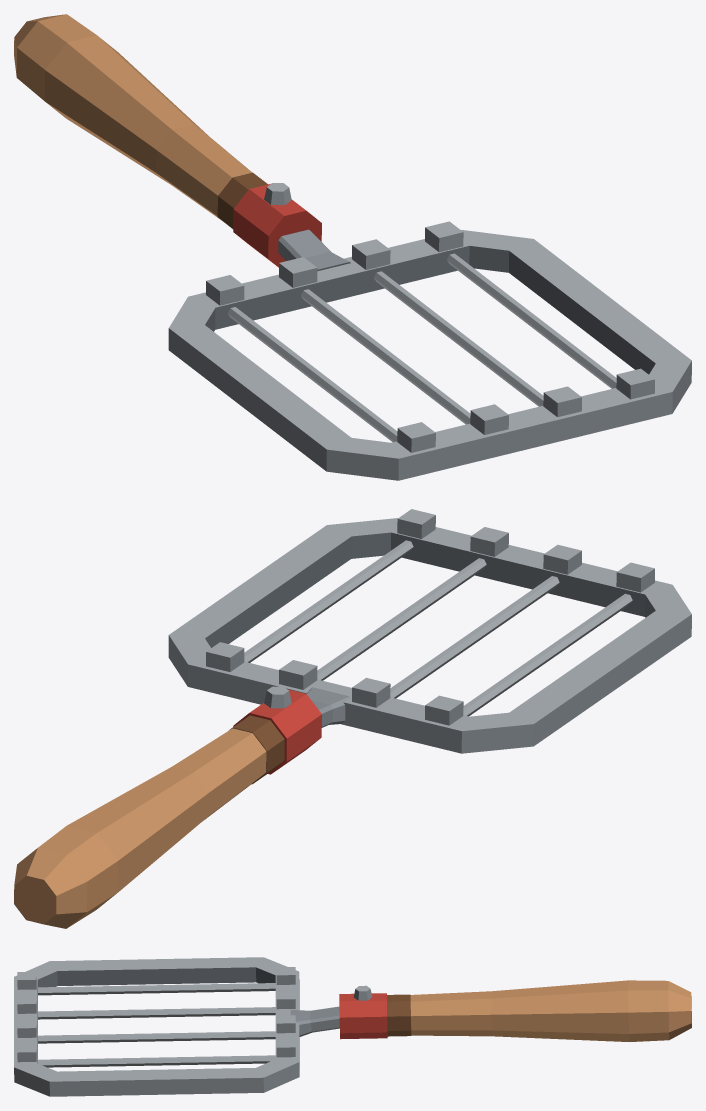
The model's file is FMS_Workshop_TOL_02.fbx.
3 renders of one model, top to bottom at view 1: azimuth 30°, elevation 25°; view 2: azimuth 150°, elevation 25°; view 3: azimuth 270°, elevation 25°, orthographic. The views are drawn at different scales.
Parts seen in each view (by area): view 1: FMS_Workshop_TOL_02_Body; view 2: FMS_Workshop_TOL_02_Body; view 3: FMS_Workshop_TOL_02_Body.
Boxes of the visible parts, x1,y1,x2,y2 form: FMS_Workshop_TOL_02_Body: (14, 14, 691, 480); FMS_Workshop_TOL_02_Body: (14, 509, 691, 928); FMS_Workshop_TOL_02_Body: (14, 957, 691, 1096).
Size of the model in its own units: 0.24 by 0.048 by 0.5702.
